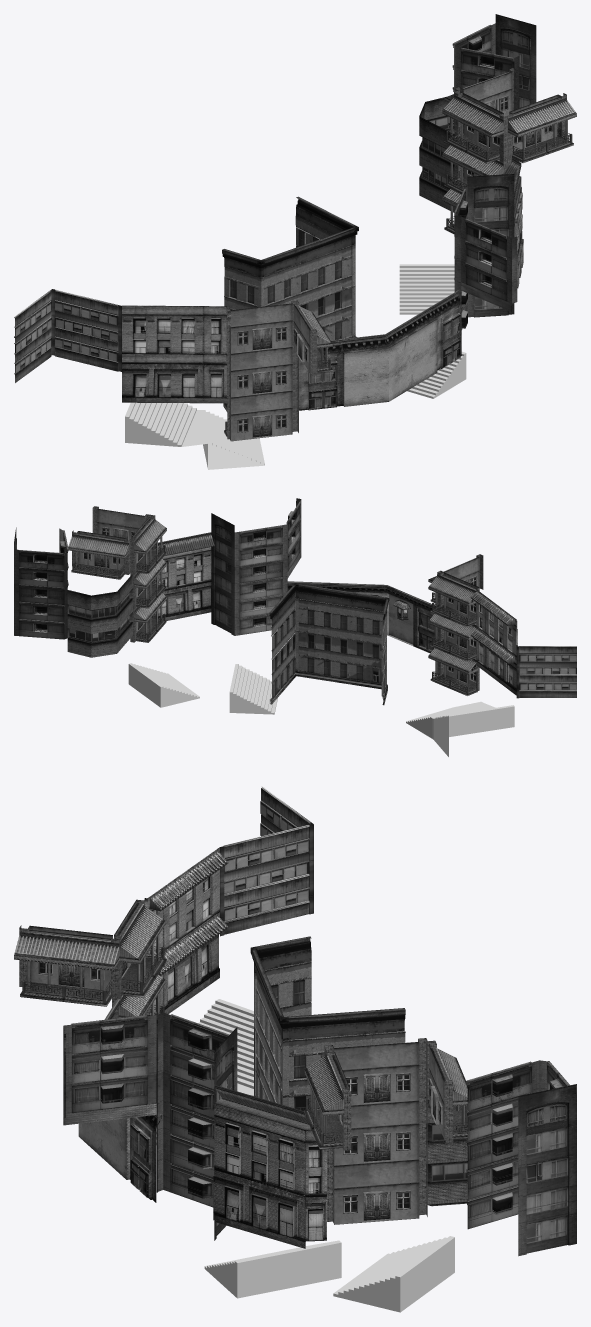
File: chinatown_block_3.fbx
The picture shows the model from 3 angles, top to bottom: view 1: azimuth 30°, elevation 25°; view 2: azimuth 150°, elevation 25°; view 3: azimuth 270°, elevation 25°; orthographic projection. The views are drawn at different scales.
Parts seen in each view (by area): view 1: chinatown_building_7, chinatown_building_9, chinatown_building_3, chinatown_building_6, chinatown_building_1, chinatown_building_5, chinatown_building_8, alley_stairs_1, chinatown_building_4, chinatown_building_2, alley_stairs_2, alley_stairs_3; view 2: chinatown_building_9, chinatown_building_5, chinatown_building_2, chinatown_building_1, chinatown_building_7, chinatown_building_4, chinatown_building_8, chinatown_building_6, chinatown_building_3, alley_stairs_1, alley_stairs_3, alley_stairs_2; view 3: chinatown_building_1, chinatown_building_5, chinatown_building_4, chinatown_building_2, chinatown_building_9, chinatown_building_7, chinatown_building_8, chinatown_building_6, alley_stairs_2, alley_stairs_3, chinatown_building_3, alley_stairs_1.
Boxes of the visible parts, box(x1,y1,x2,y2) form: chinatown_building_7: box(223, 300, 332, 441); chinatown_building_9: box(222, 196, 358, 340); chinatown_building_3: box(299, 290, 461, 410); chinatown_building_6: box(122, 305, 227, 403); chinatown_building_1: box(442, 68, 576, 233); chinatown_building_5: box(454, 173, 517, 329); chinatown_building_8: box(14, 289, 121, 382); alley_stairs_1: box(125, 402, 264, 469); chinatown_building_4: box(452, 14, 536, 161); chinatown_building_2: box(419, 97, 523, 288); alley_stairs_2: box(399, 264, 454, 314); alley_stairs_3: box(407, 351, 466, 398); chinatown_building_9: box(269, 583, 389, 705); chinatown_building_5: box(211, 498, 301, 635); chinatown_building_2: box(67, 532, 214, 657); chinatown_building_1: box(68, 506, 166, 642); chinatown_building_7: box(428, 554, 483, 695); chinatown_building_4: box(14, 527, 68, 639); chinatown_building_8: box(516, 621, 576, 698); chinatown_building_6: box(470, 588, 516, 695); chinatown_building_3: box(287, 581, 435, 653); alley_stairs_1: box(406, 701, 514, 756); alley_stairs_3: box(229, 664, 277, 714); alley_stairs_2: box(128, 663, 199, 707); chinatown_building_1: box(304, 1038, 467, 1224); chinatown_building_5: box(63, 1012, 237, 1240); chinatown_building_4: box(466, 1060, 576, 1256); chinatown_building_2: box(213, 1084, 467, 1248); chinatown_building_9: box(250, 936, 405, 1110); chinatown_building_7: box(14, 899, 166, 1018); chinatown_building_8: box(220, 786, 313, 936); chinatown_building_6: box(144, 847, 228, 1015); alley_stairs_2: box(333, 1236, 454, 1312); alley_stairs_3: box(204, 1240, 341, 1298); chinatown_building_3: box(78, 998, 161, 1202); alley_stairs_1: box(156, 999, 253, 1144).
Size of the model in its own units: 7740 by 2816 by 4534.
